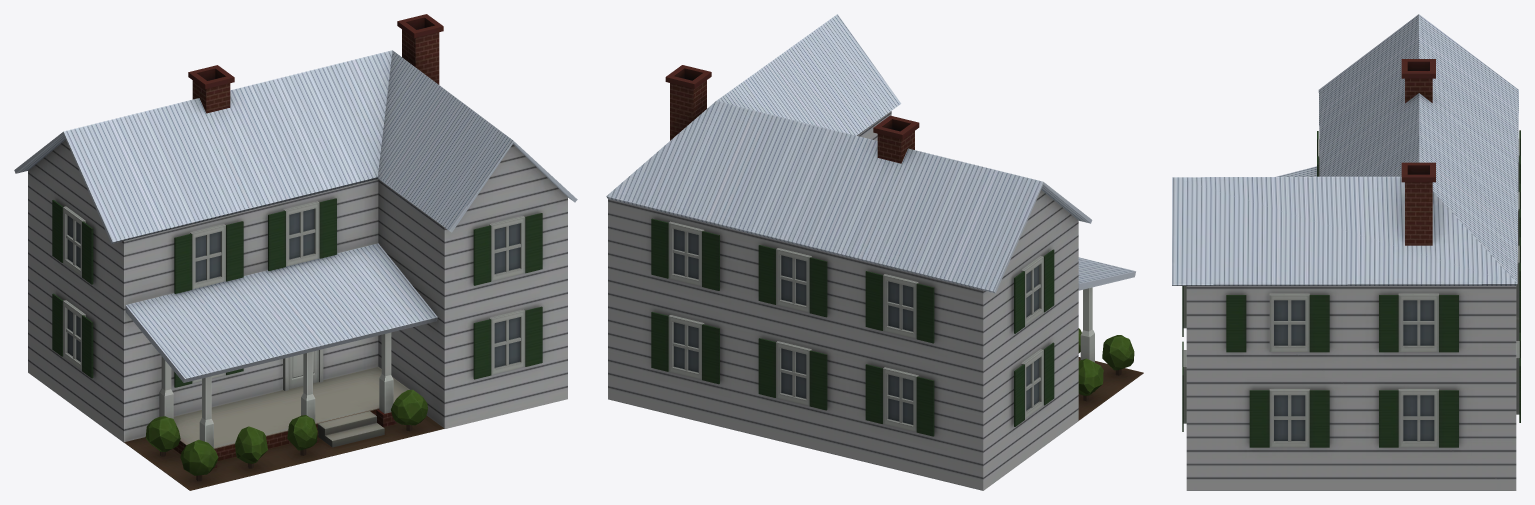
Rendered from farmhouse.glb.
3 renders of one model, left to right at view 1: azimuth 30°, elevation 25°; view 2: azimuth 150°, elevation 25°; view 3: azimuth 270°, elevation 25°, orthographic. The views are drawn at different scales.
Visible parts, largest first — view 1: FarmHouse_Mesh; view 2: FarmHouse_Mesh; view 3: FarmHouse_Mesh.
Boxes of the visible parts, bbox=[...] form: FarmHouse_Mesh: bbox=[14, 14, 577, 490]; FarmHouse_Mesh: bbox=[606, 14, 1143, 490]; FarmHouse_Mesh: bbox=[1172, 14, 1520, 490].
Size of the model in its own units: 12.37 by 9 by 9.34.
Materials: 1 (1 with a texture image).
